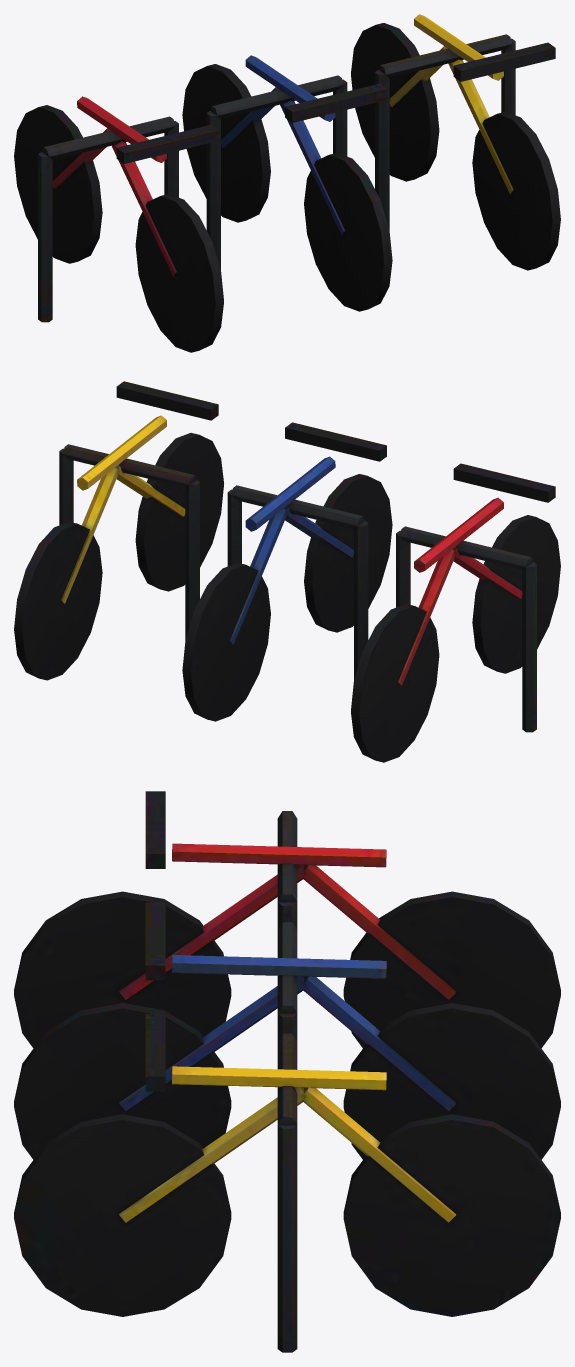
The model's file is bicis_aparcadas.glb.
The picture shows the model from 3 angles, top to bottom: view 1: azimuth 30°, elevation 25°; view 2: azimuth 150°, elevation 25°; view 3: azimuth 270°, elevation 25°; orthographic projection. The views are drawn at different scales.
Visible parts, largest first — view 1: bicis_aparcadas; view 2: bicis_aparcadas; view 3: bicis_aparcadas.
Part boxes in pixels (bbox=[...]): bicis_aparcadas: bbox=[14, 14, 560, 352]; bicis_aparcadas: bbox=[14, 381, 560, 762]; bicis_aparcadas: bbox=[14, 791, 560, 1352].
Size of the model in its own units: 2.25 by 0.9 by 1.66.
1 material, 1 textured.
